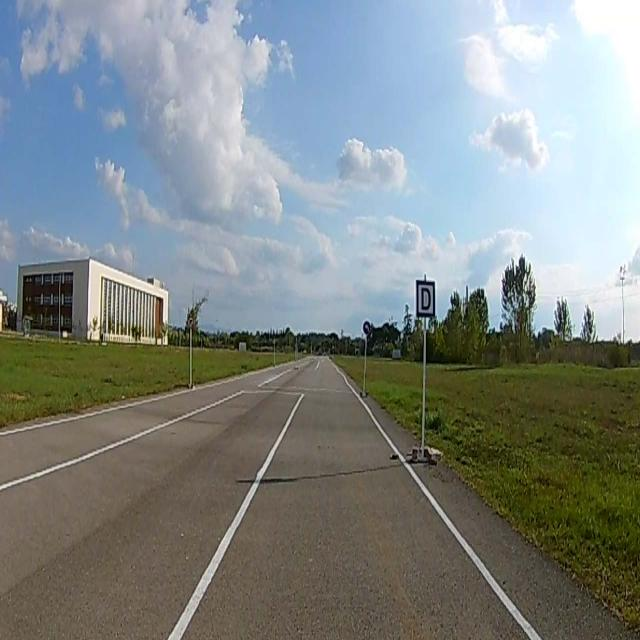durak: (416, 281, 434, 316)
